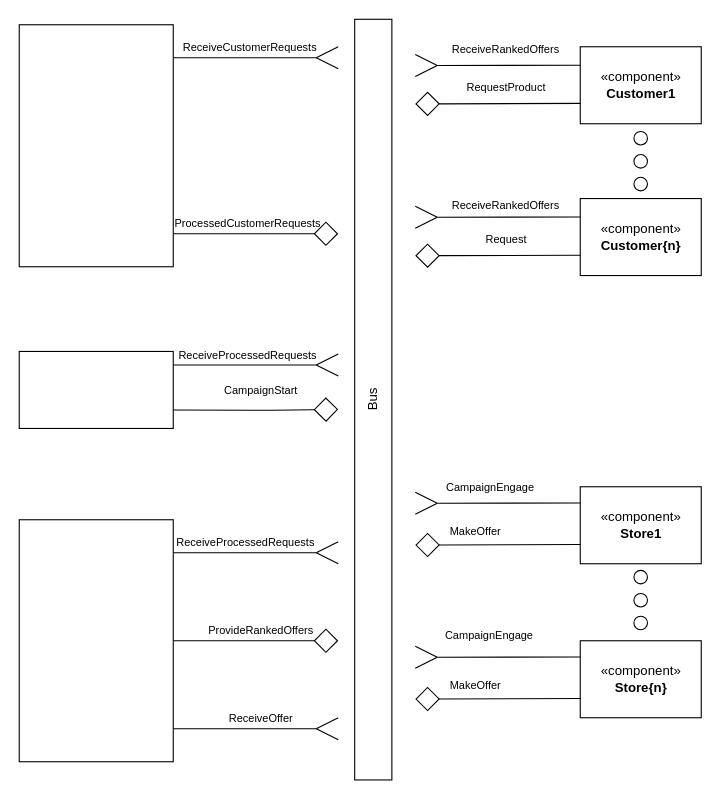
This 721x800 diagram has some shape labels left out. The centre of each missing label's shape, as x and y in pixels:
"«component» Campaign" belongs at point (95, 389).
"«component» OfferDistribuition" belongs at point (95, 640).
"«component» ProcessCustomer Requests" belongs at point (95, 145).
